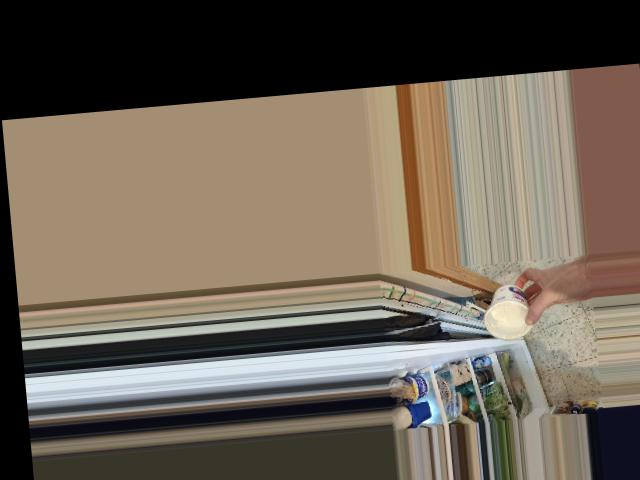cotage: (482, 282, 535, 340)
